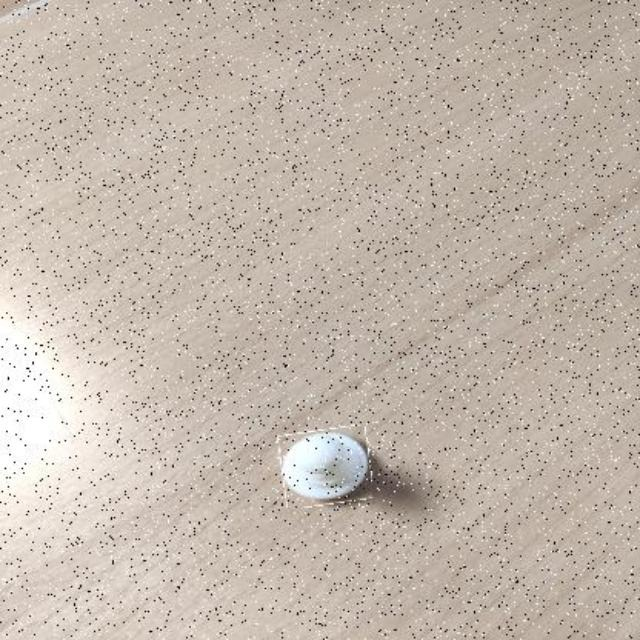white-pawn: (279, 429, 371, 507)
